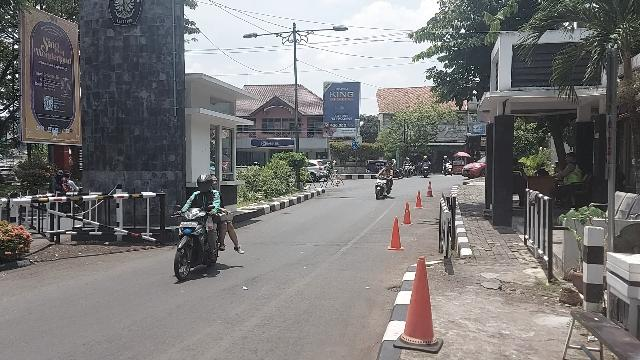helm: (198, 174, 214, 194)
motor: (172, 204, 231, 282), (375, 173, 394, 202)
non-helm: (212, 175, 220, 189), (386, 165, 390, 171), (389, 162, 393, 168)
